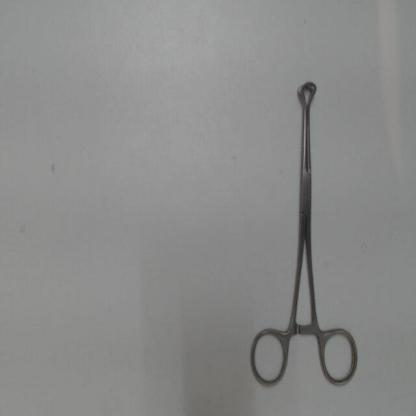Babcock Tissue Forceps: (248, 75, 363, 392)
